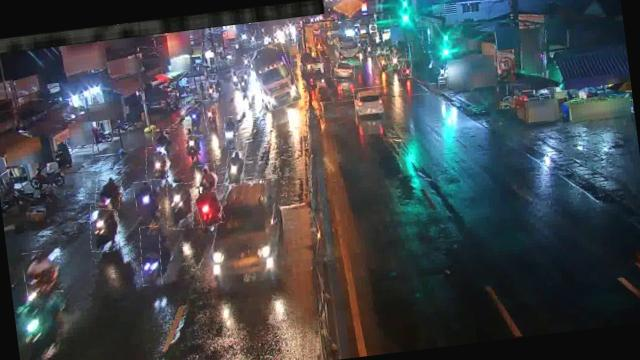Bike: (21, 248, 63, 295), (86, 202, 122, 252), (136, 225, 164, 286), (164, 180, 196, 229), (191, 182, 223, 228), (34, 158, 68, 194), (92, 173, 124, 211), (182, 98, 211, 137), (223, 150, 247, 187), (144, 146, 170, 180), (196, 163, 218, 193), (152, 127, 178, 152), (133, 180, 154, 210), (182, 128, 200, 163), (202, 99, 220, 128), (223, 116, 238, 147), (238, 74, 250, 95), (376, 51, 388, 72), (400, 58, 412, 78), (204, 79, 216, 98), (390, 48, 398, 70)
Car: (213, 176, 291, 290), (353, 84, 388, 116), (330, 59, 356, 82)
Truck: (251, 41, 299, 110)
